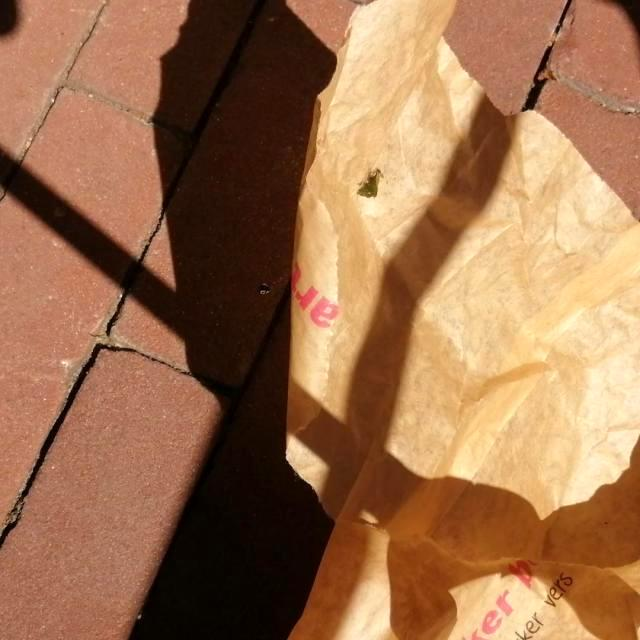Paper: (277, 2, 639, 640)
